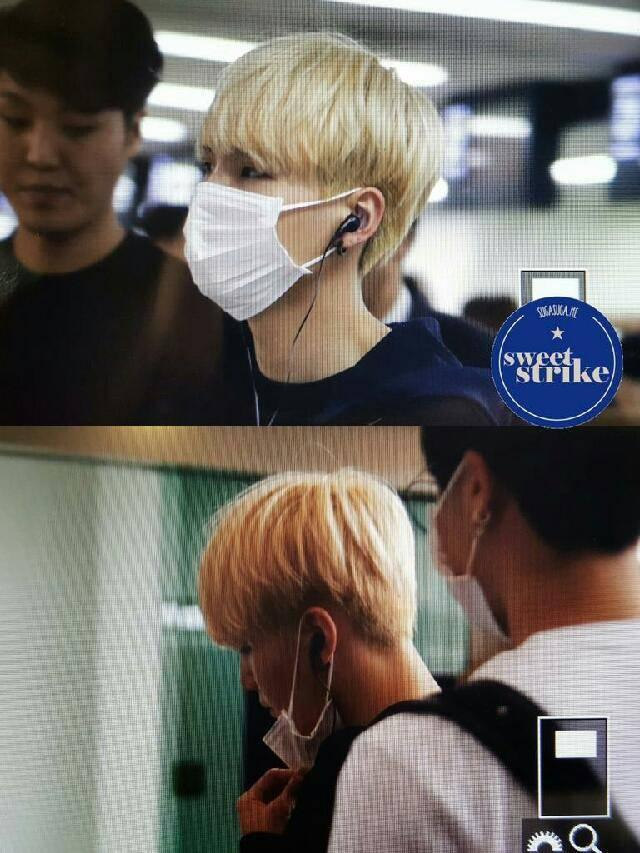NONE: (1, 93, 124, 225)
OK: (181, 133, 365, 317)
WRONG: (234, 617, 351, 757)
